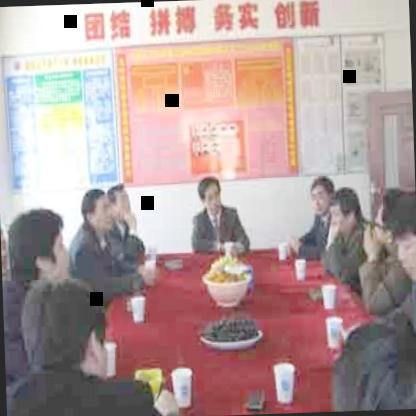head: (6, 201, 72, 287), (330, 180, 364, 247), (392, 187, 416, 279), (376, 188, 406, 252), (78, 182, 112, 238), (304, 170, 338, 218), (107, 178, 136, 228), (196, 170, 225, 214), (1, 216, 10, 287)
